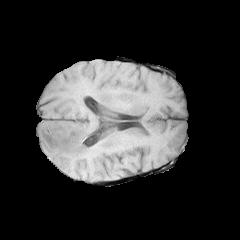glioma: (42, 122, 96, 167)
